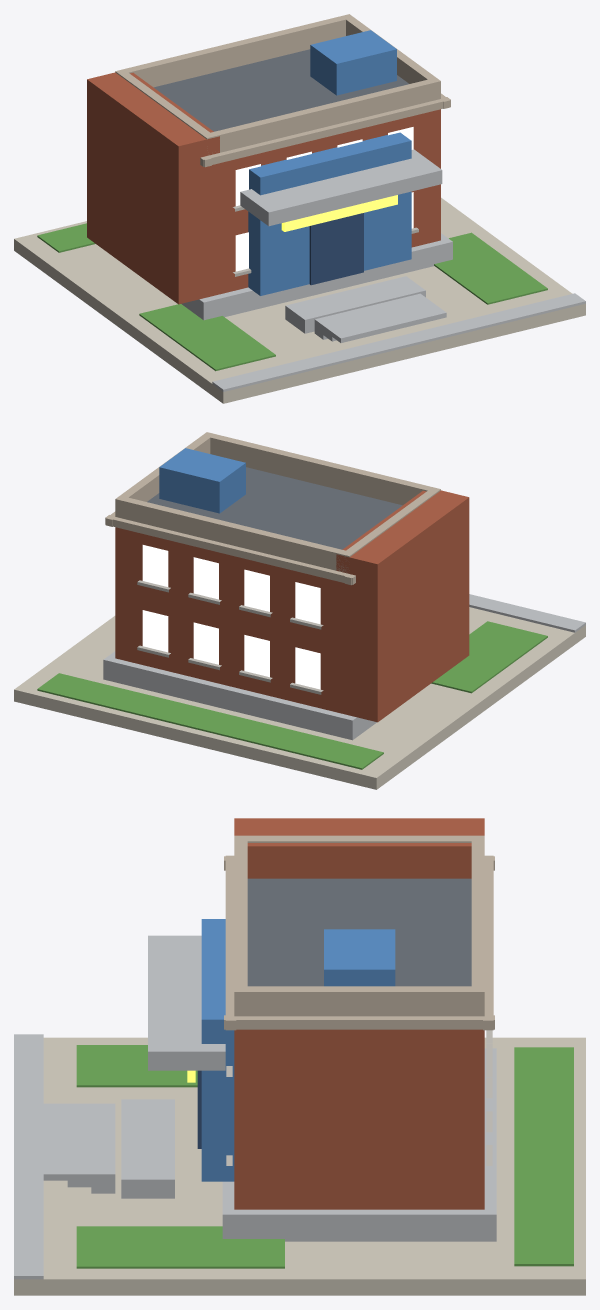
The picture shows the model from 3 angles, top to bottom: view 1: azimuth 30°, elevation 25°; view 2: azimuth 150°, elevation 25°; view 3: azimuth 270°, elevation 25°; orthographic projection. The views are drawn at different scales.
Parts seen in each view (by area): view 1: b22_v2_lod1; view 2: b22_v2_lod1; view 3: b22_v2_lod1.
Boxes of the visible parts, x1=… form: b22_v2_lod1: x1=14, y1=14, x2=585, y2=403; b22_v2_lod1: x1=14, y1=432, x2=585, y2=789; b22_v2_lod1: x1=14, y1=818, x2=585, y2=1295.
Size of the model in its own units: 0.96 by 0.51 by 0.96.
